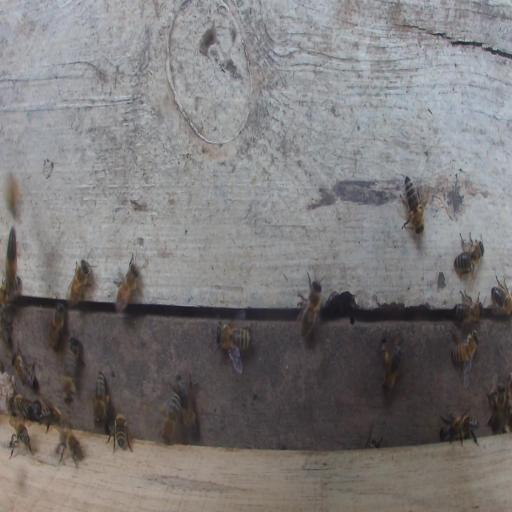bee: (295, 271, 325, 340), (399, 175, 428, 235), (451, 327, 479, 384), (115, 253, 141, 311), (454, 232, 484, 281), (441, 411, 479, 447), (54, 426, 85, 469), (66, 257, 93, 305), (486, 377, 509, 433), (105, 412, 133, 453), (11, 347, 37, 388), (162, 391, 181, 443), (215, 325, 252, 350), (490, 274, 512, 316), (6, 172, 24, 223), (9, 420, 33, 458), (48, 301, 66, 351), (454, 292, 482, 323), (94, 371, 109, 427), (383, 345, 402, 389), (6, 226, 18, 286), (184, 400, 199, 440), (0, 277, 20, 306), (64, 354, 75, 405), (11, 393, 30, 419), (41, 407, 61, 424), (69, 338, 78, 362), (0, 321, 9, 345), (32, 400, 42, 419)
